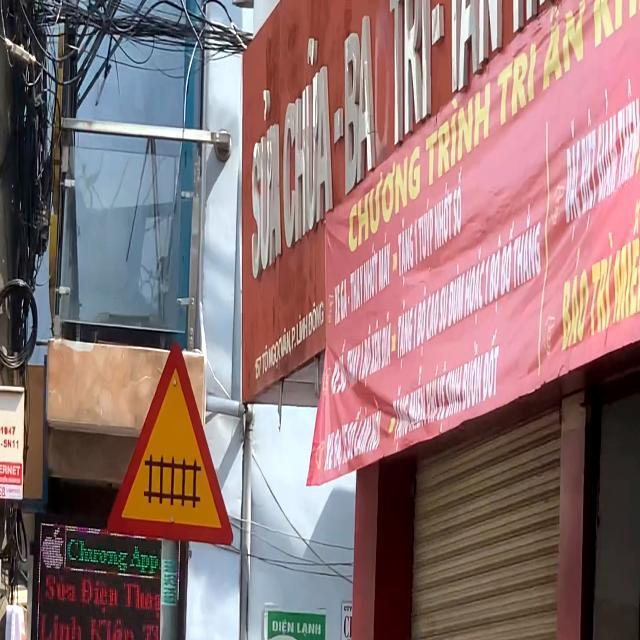W-210: (95, 340, 233, 546)
